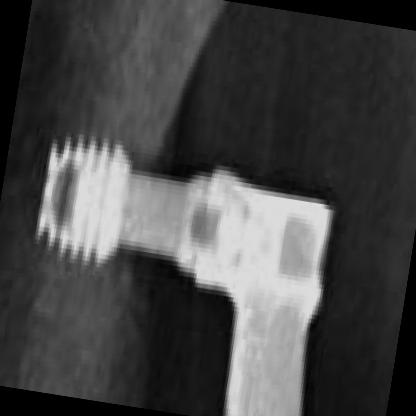Bicon: (0, 92, 154, 297)
